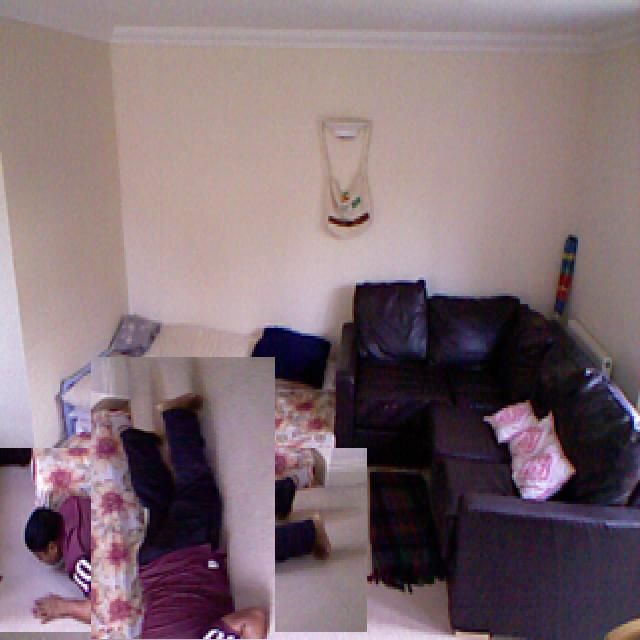Fall: (83, 364, 269, 640)
